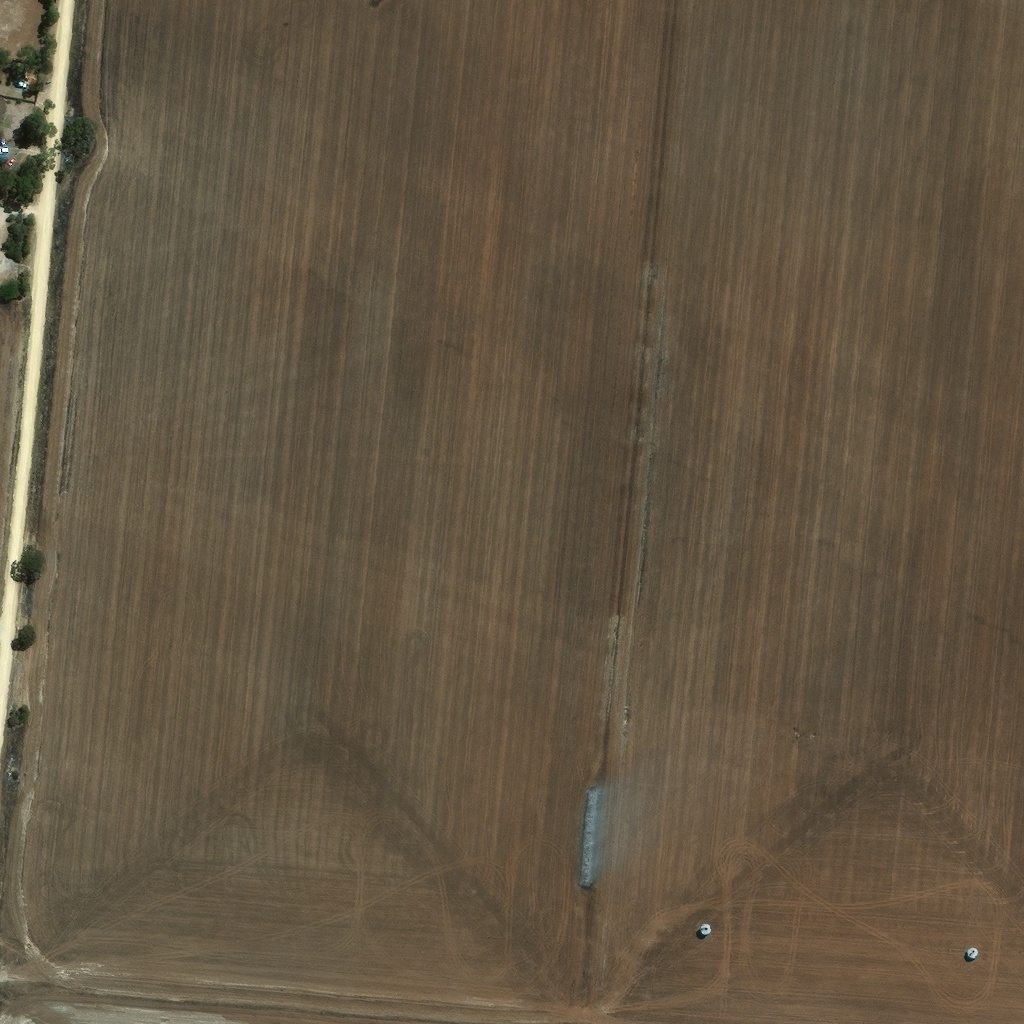4 un-classified: (0, 98, 10, 128), (906, 935, 918, 946), (1012, 942, 1023, 953), (708, 916, 719, 927), (703, 966, 715, 976), (799, 972, 811, 982)
